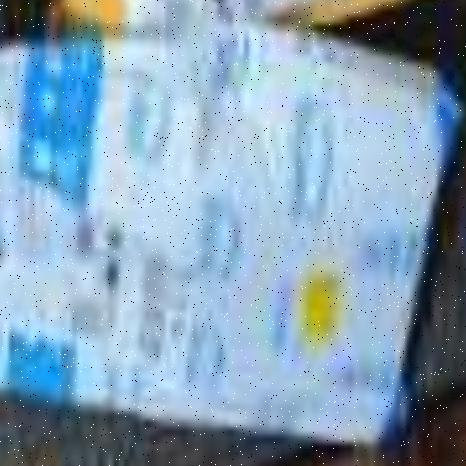Amazon: (0, 43, 406, 446)
Other: (48, 0, 441, 37)
